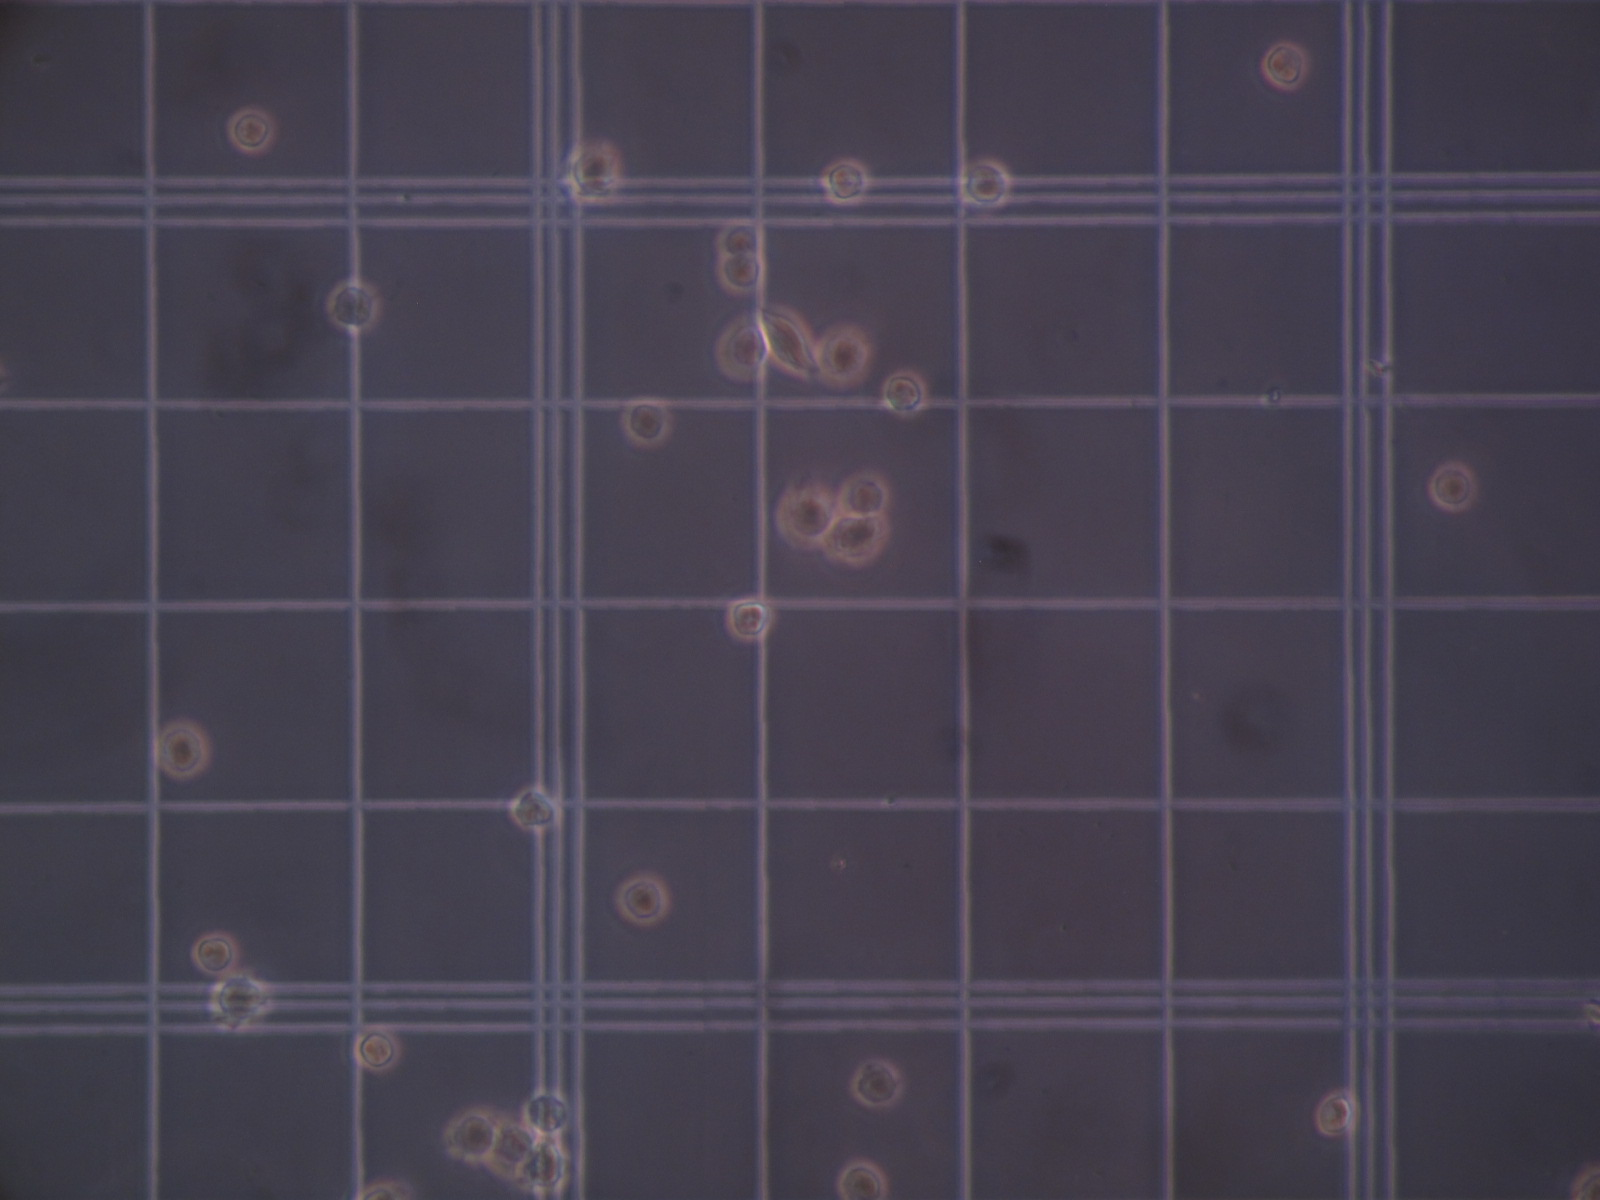hemo: (753, 304, 819, 381), (816, 320, 876, 389), (567, 139, 624, 205), (152, 720, 213, 782), (775, 487, 835, 548), (210, 974, 272, 1029), (823, 519, 889, 567), (442, 1108, 498, 1165), (522, 1134, 569, 1199), (716, 321, 769, 379), (488, 1121, 535, 1184), (328, 279, 382, 334), (614, 874, 670, 926), (957, 156, 1013, 209), (848, 1056, 902, 1108), (1427, 461, 1477, 514), (508, 785, 561, 834), (622, 396, 671, 447), (839, 471, 889, 518), (821, 156, 869, 204), (1261, 42, 1306, 91), (520, 1089, 569, 1134), (224, 108, 275, 153), (191, 930, 239, 976), (838, 1158, 889, 1200), (353, 1027, 401, 1071), (724, 597, 774, 640), (881, 369, 927, 413), (716, 255, 765, 295), (716, 217, 765, 257), (1315, 1090, 1358, 1136), (357, 1184, 402, 1200)
